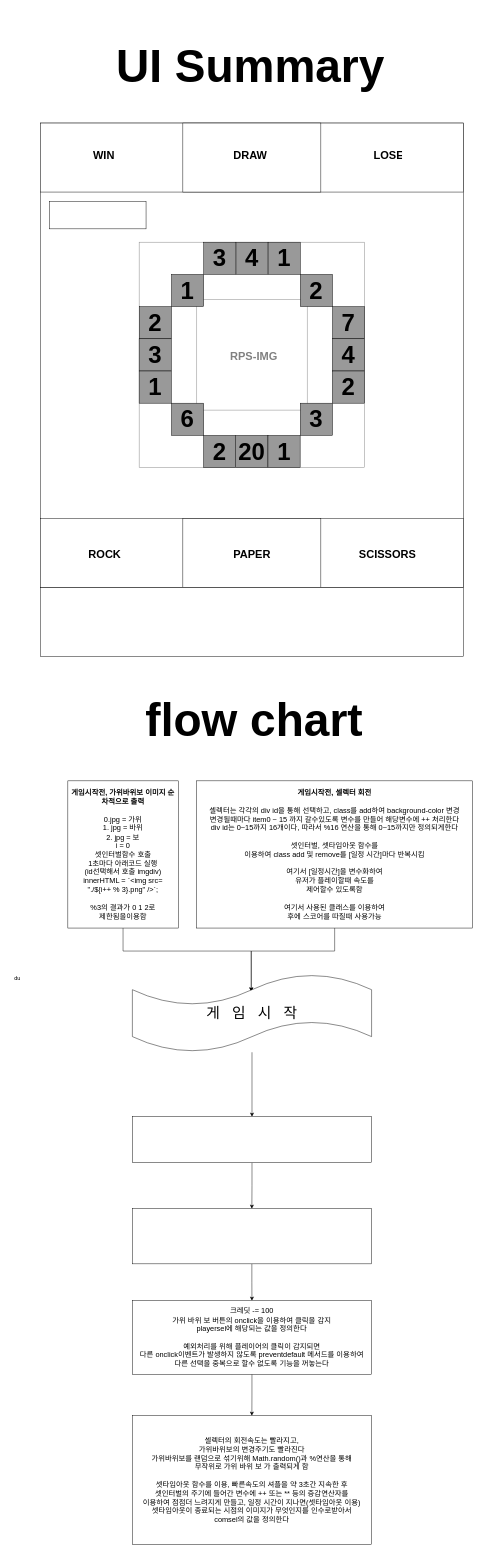
This 481x1553 diagram has some shape labels left out. The box of each missing label's shape, as (x1, y1, x2, y2) in pixels:
CREDIT: (49, 201, 146, 229)
GAME START: (40, 587, 463, 657)
ROCK / PAPER / SCISSORS 버튼의 백그라운드 컬러를 이용한 효과(반짝임 등)를 주어 플레이어가 선택을 하도록 유도: (132, 1208, 371, 1264)
크레딧 = 1000: (132, 1116, 372, 1163)
